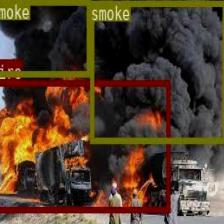fire: (0, 79, 169, 212)
smoke: (89, 0, 224, 142), (0, 0, 89, 76)
